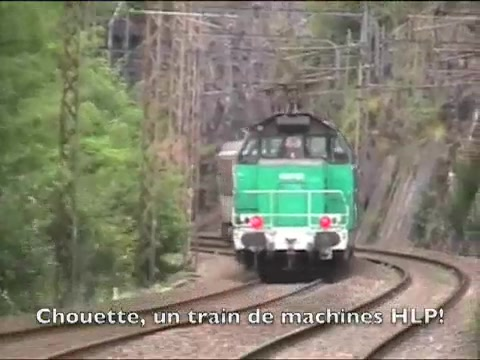train: (205, 113, 360, 283)
